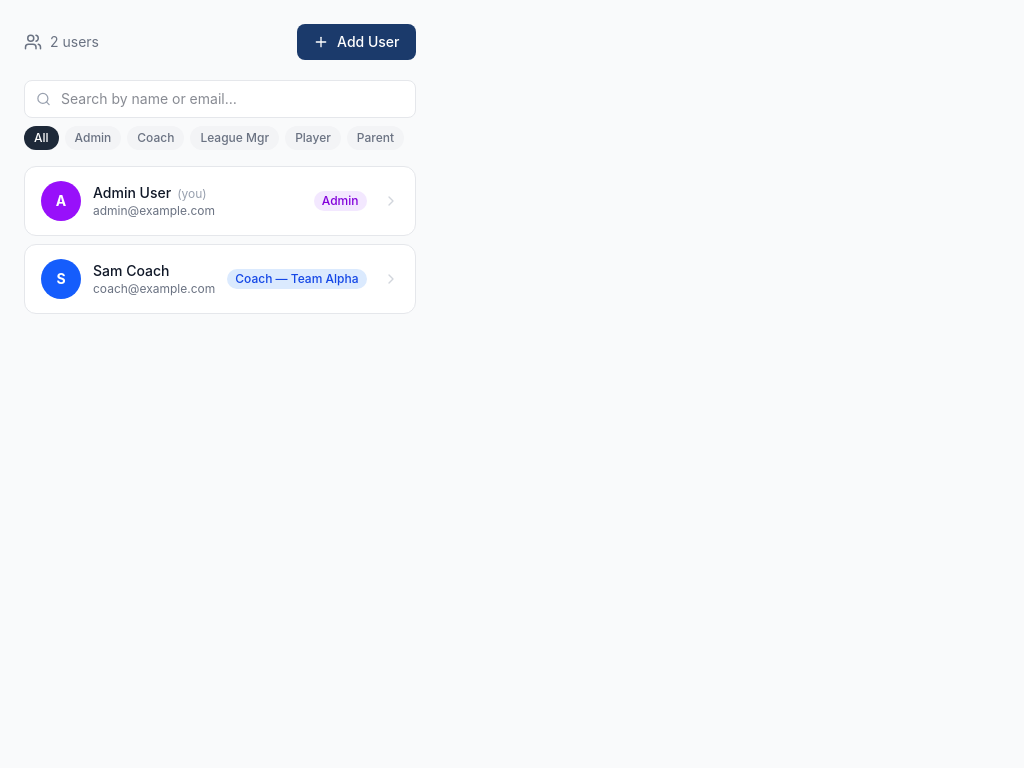
UsersPage — AddMembershipForm: child picker for parent role › shows the "Child" select when role=parent and a team is selected
Expected: the text "Sam Coach" is shown, [93, 262, 170, 279]
Click the button "Sam Coach" at (61, 279), box [24, 244, 416, 314]
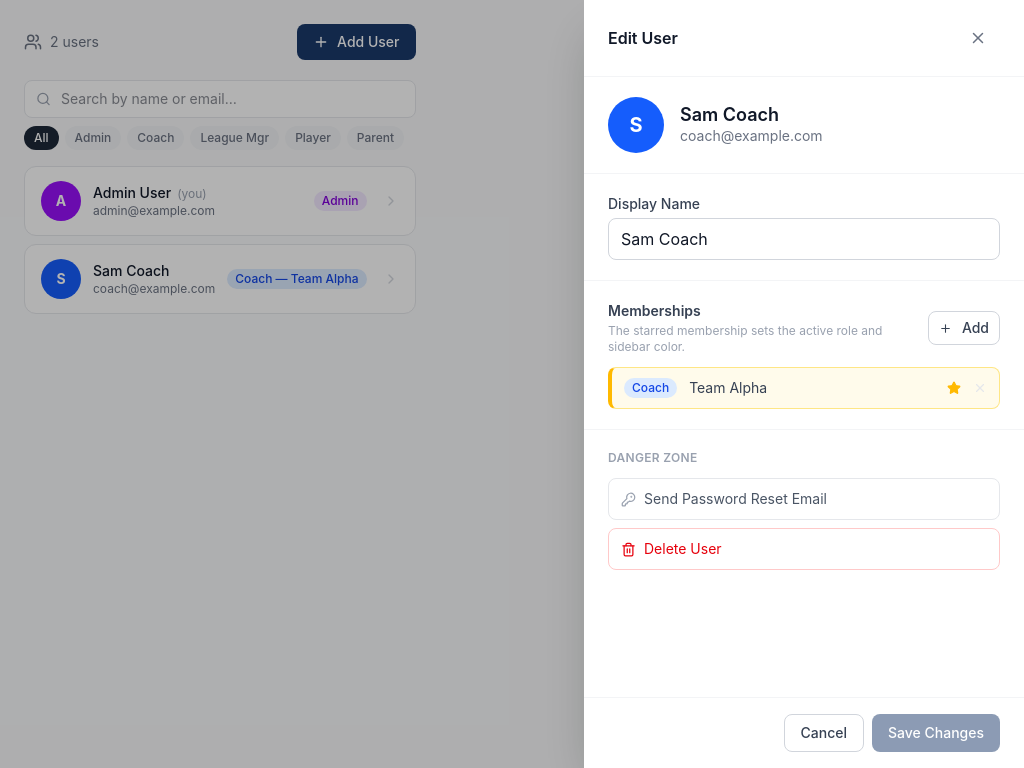
Click the button "Add" at (964, 328), box [928, 311, 1000, 345]
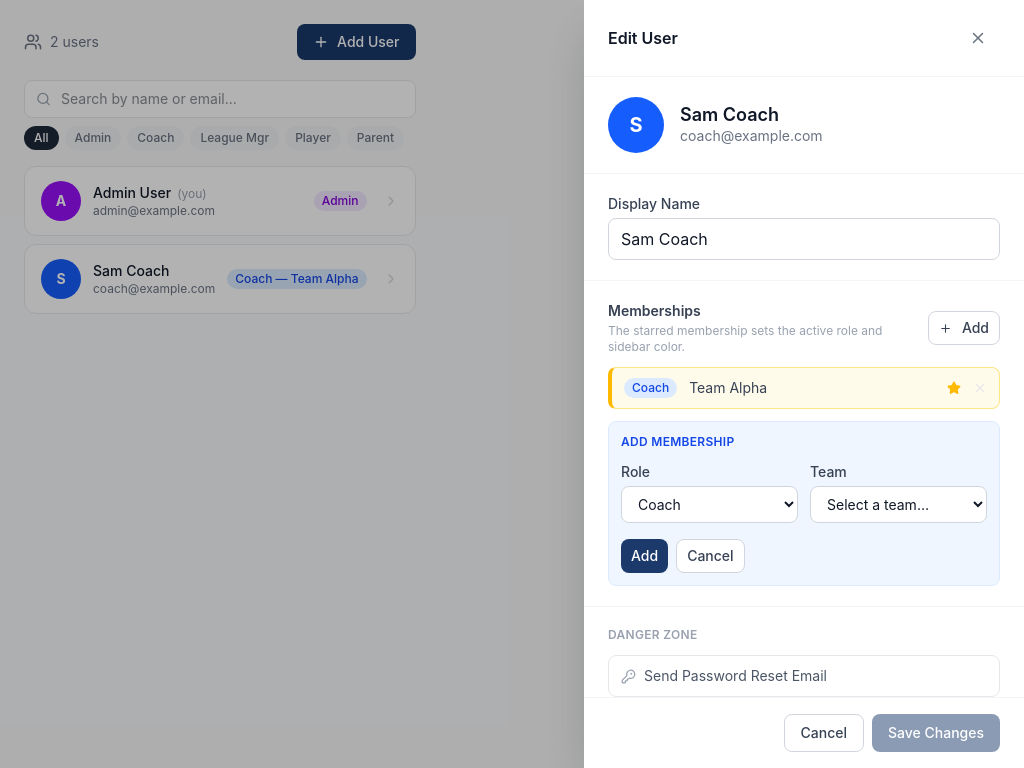
Select "Parent" in the dropdown labelled "Role" at (710, 504), box [621, 486, 798, 523]
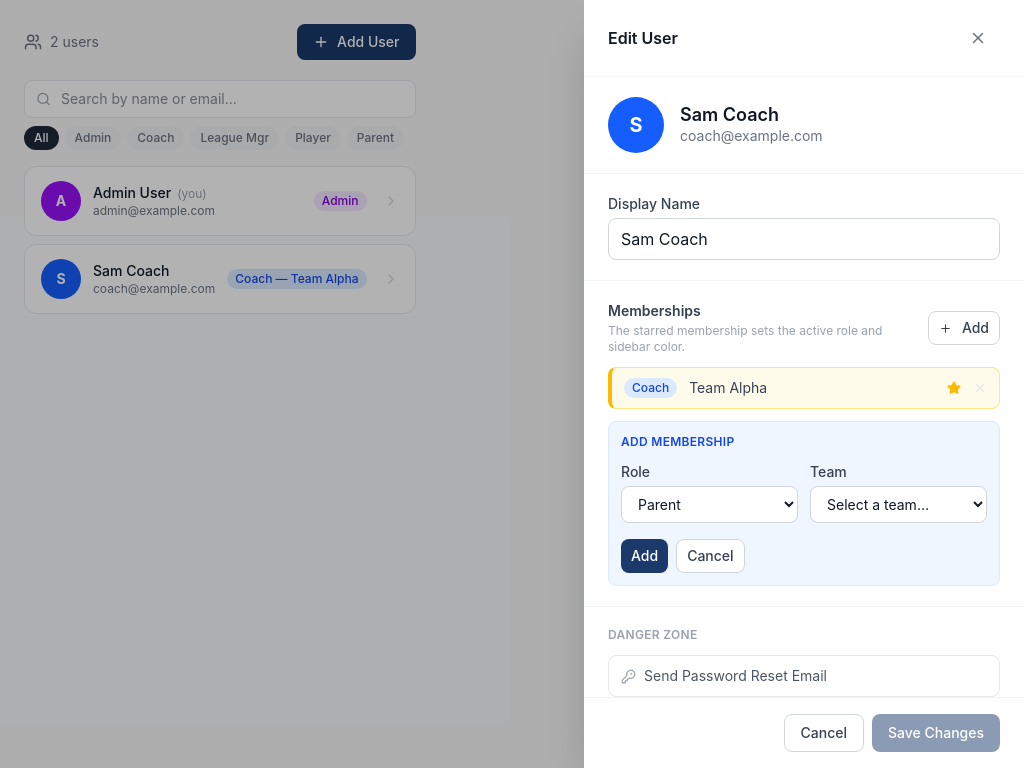
Select "Team Alpha" in the dropdown labelled "Team" at (898, 504), box [810, 486, 987, 523]
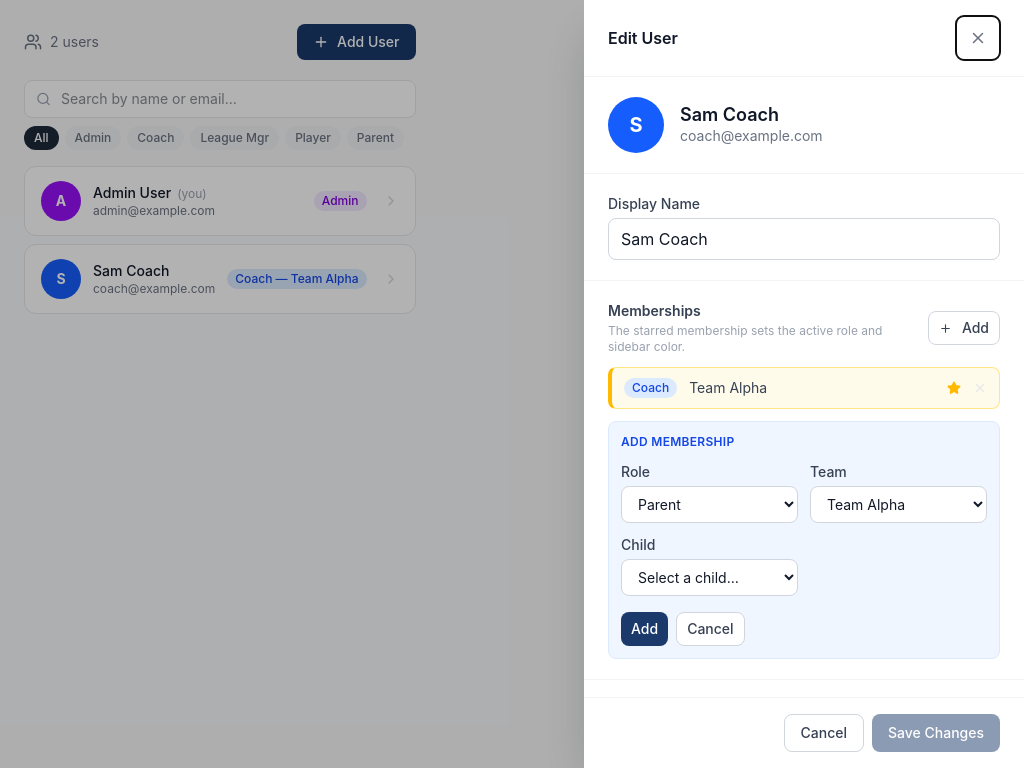
Expected: the dropdown labelled "Child" is shown, [621, 559, 798, 596]
